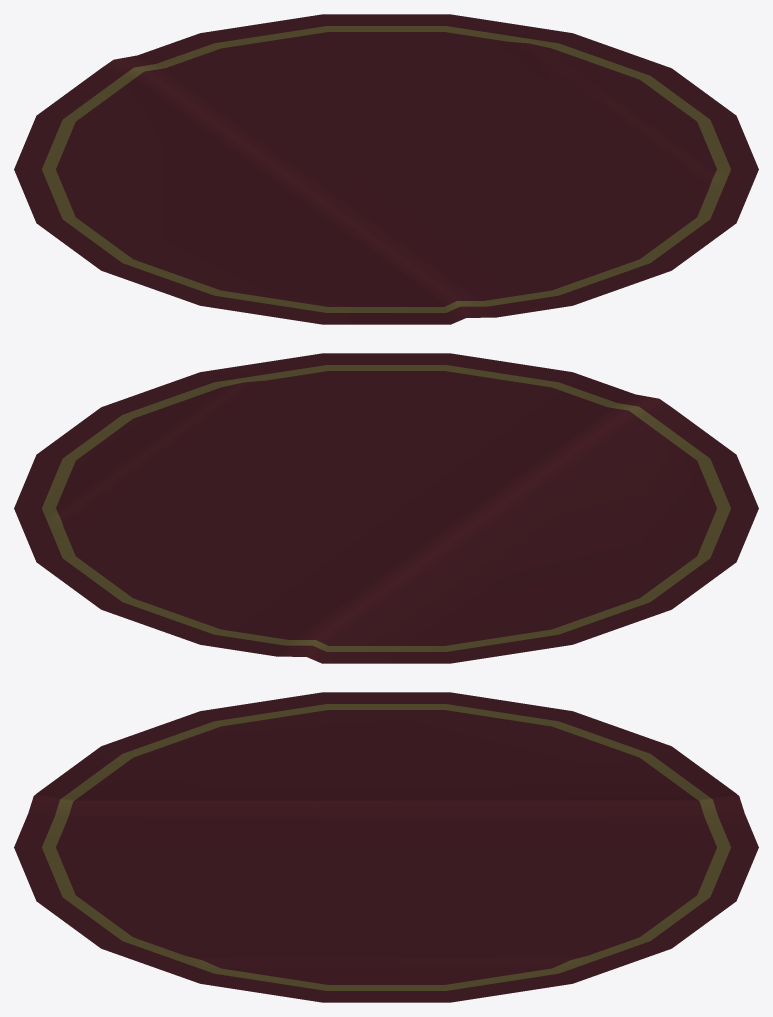
File: pq_tapis_rond.glb
3 views of the same model, one above another, from view 1: azimuth 30°, elevation 25°; view 2: azimuth 150°, elevation 25°; view 3: azimuth 270°, elevation 25° (orthographic).
Parts seen in each view (by area): view 1: Carpet_Round; view 2: Carpet_Round; view 3: Carpet_Round.
Part boxes in pixels (x1,y1,x2,y2): Carpet_Round: [14, 14, 758, 324]; Carpet_Round: [14, 353, 758, 663]; Carpet_Round: [14, 692, 758, 1002].
Bounding box in the file's own units: 1.97 × 0.0124 × 2.
